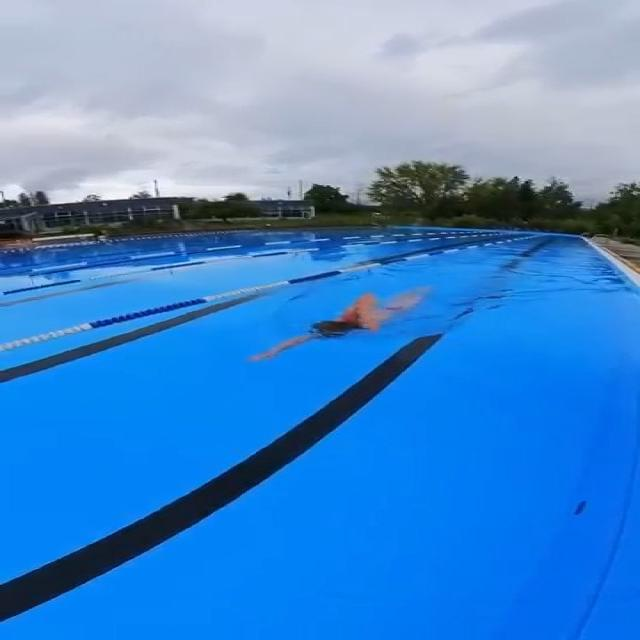Swimming: (237, 282, 456, 367)
